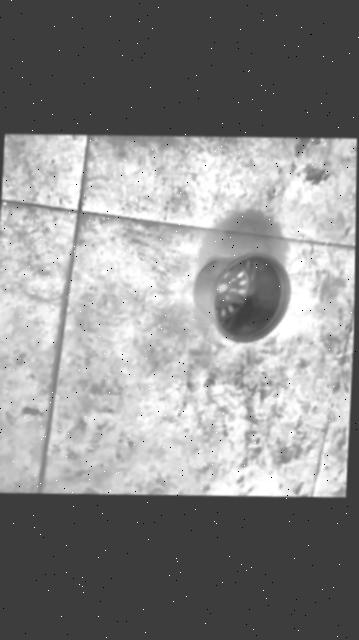pot: (190, 252, 291, 346)
